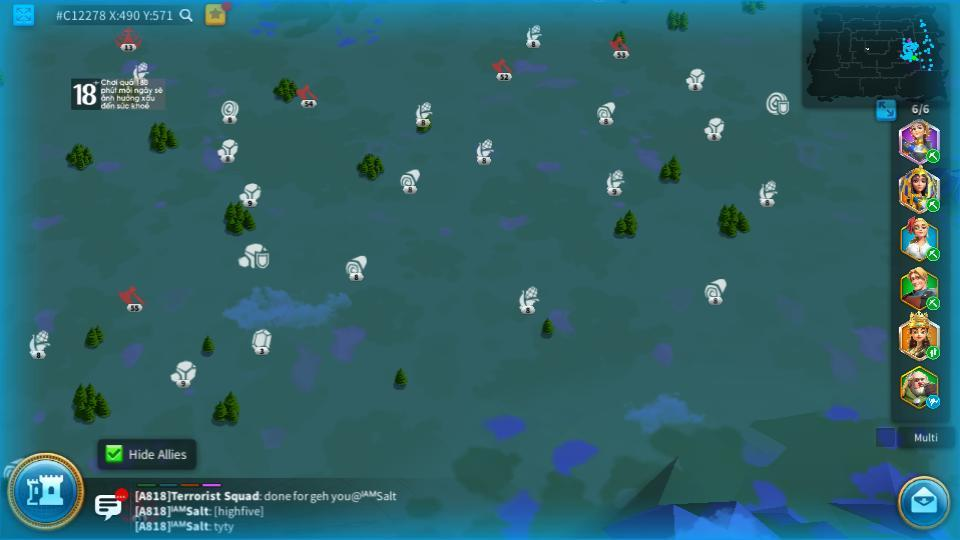gem-z-out: (250, 329, 273, 354)
march_farming: (925, 197, 941, 212), (924, 248, 939, 261), (925, 297, 941, 308)
march_idle: (925, 396, 942, 408)
march_marching: (925, 345, 941, 359), (925, 149, 941, 162)
